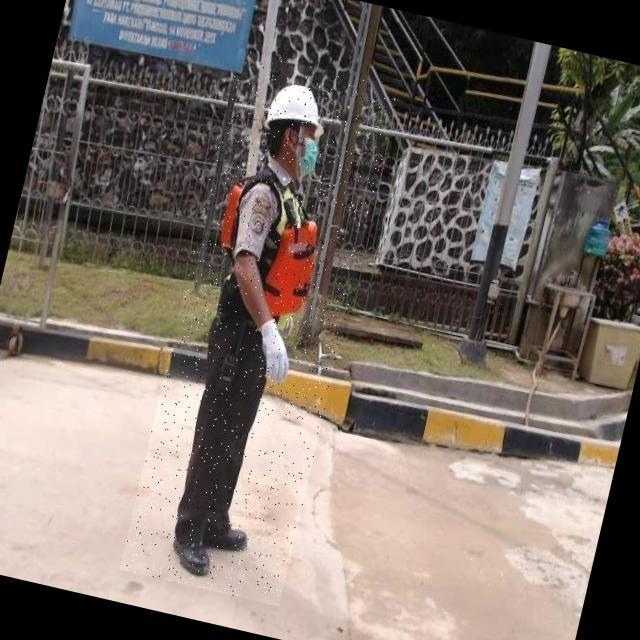Helmet: (263, 76, 336, 142)
Human: (119, 49, 399, 606)
Safety Boot: (166, 522, 220, 580), (196, 514, 254, 559)
Safety Vest: (206, 167, 337, 336)
